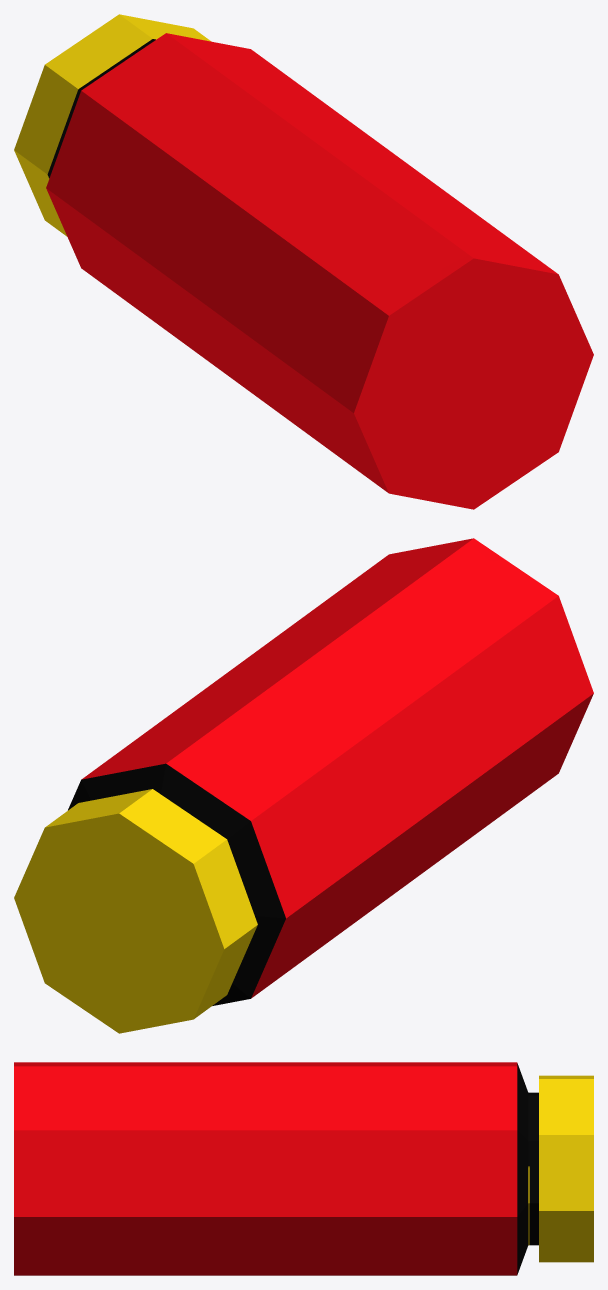
File: shotGunBullet.fbx
3 renders of one model, top to bottom at view 1: azimuth 30°, elevation 25°; view 2: azimuth 150°, elevation 25°; view 3: azimuth 270°, elevation 25°, orthographic. The views are drawn at different scales.
Parts seen in each view (by area): view 1: Cylinder; view 2: Cylinder; view 3: Cylinder.
Boxes of the visible parts, box(x1,y1,x2,y2) form: Cylinder: box(14, 14, 593, 509); Cylinder: box(14, 538, 593, 1033); Cylinder: box(14, 1062, 593, 1275).
Size of the model in its own units: 84.13 by 84.13 by 215.
